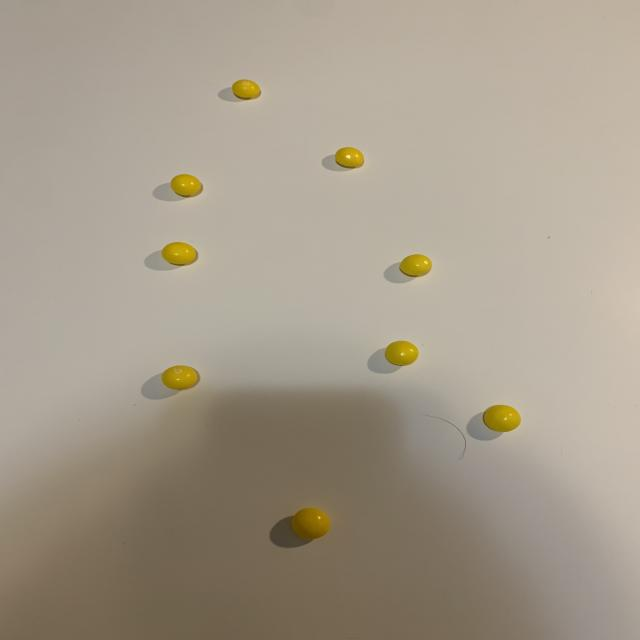smartie: (291, 509, 330, 540), (483, 405, 521, 433), (160, 366, 198, 391), (385, 341, 419, 366), (161, 242, 196, 265), (400, 254, 432, 276), (170, 174, 200, 196), (335, 147, 364, 167), (231, 79, 260, 98)
